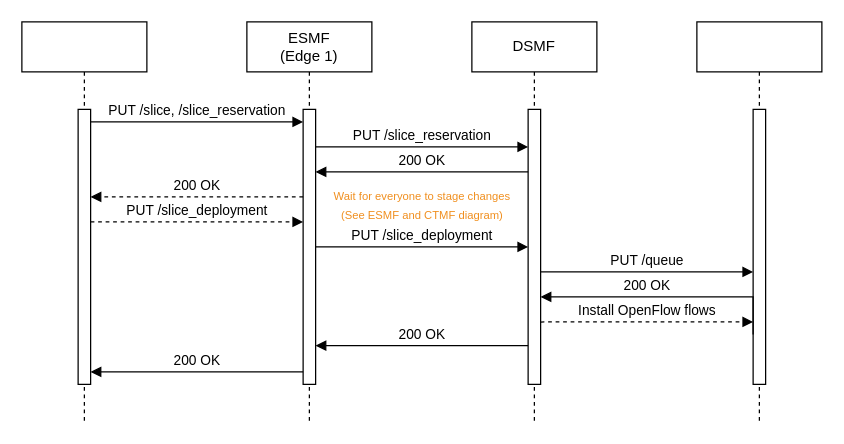
Image size: 844x444. Some labels were removed from this diagram. The shapes that lost their labels are listed below. From the top down, each one's box as (x1, y1, x2, y2) in pixels, then its label:
(21, 21, 147, 422): Host 1 or another ESMF
(696, 21, 822, 422): Switch
